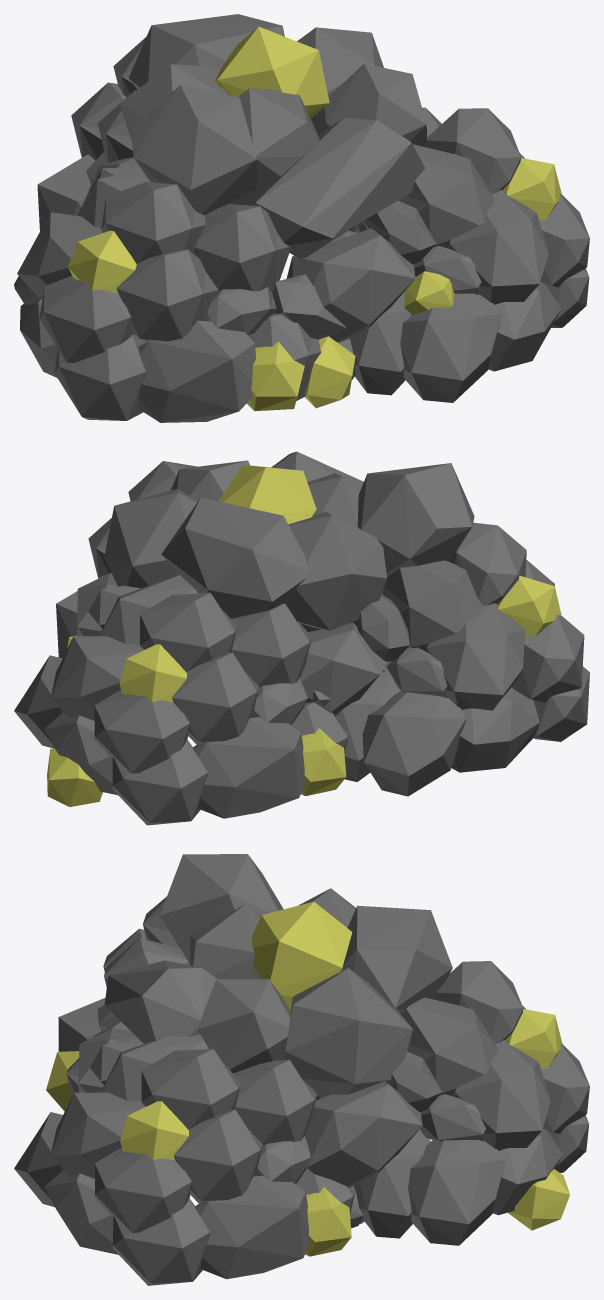
Rendered from GoldMine.fbx.
3 views of the same model, one above another, from view 1: azimuth 30°, elevation 25°; view 2: azimuth 150°, elevation 25°; view 3: azimuth 270°, elevation 25° (orthographic). The views are drawn at different scales.
Visible parts, largest first — view 1: Caverne.002, Caverne, Icosphere.010, Icosphere.006, Caverne.001, Icosphere.003, Icosphere.016, Icosphere.017, Icosphere.013, Icosphere.005, Icosphere.015, Icosphere.014 (+4 smaller); view 2: Caverne.001, Caverne.002, Icosphere.017, Icosphere.006, Icosphere.004, Icosphere.005, Icosphere.003, Caverne, Icosphere.009, Icosphere.014, Icosphere.008, Icosphere (+3 smaller); view 3: Caverne, Caverne.001, Icosphere.005, Icosphere.017, Icosphere.003, Icosphere.006, Icosphere.010, Icosphere.013, Caverne.002, Icosphere.016, Icosphere.002, Icosphere.007 (+4 smaller).
Part boxes in pixels (x1,y1,x2,y2): Caverne.002: (14,157,355,422); Caverne: (286,107,589,402); Icosphere.010: (255,118,424,258); Icosphere.006: (131,85,257,215); Caverne.001: (37,37,357,232); Icosphere.003: (215,26,329,118); Icosphere.016: (226,88,319,205); Icosphere.017: (128,14,284,89); Icosphere.013: (324,63,426,147); Icosphere.005: (297,27,383,136); Icosphere.015: (247,342,304,411); Icosphere.014: (68,230,136,293); Caverne.001: (14,573,348,825); Caverne.002: (300,522,589,796); Icosphere.017: (161,497,308,618); Icosphere.006: (357,463,474,576); Icosphere.004: (287,512,386,630); Icosphere.005: (104,489,197,588); Icosphere.003: (218,464,316,524); Caverne: (56,461,391,672); Icosphere.009: (119,644,186,702); Icosphere.014: (497,576,561,636); Icosphere.008: (301,728,346,796); Icosphere: (47,748,102,806); Caverne: (14,1028,364,1285); Caverne.001: (305,961,589,1245); Icosphere.005: (285,968,412,1098); Icosphere.017: (341,905,452,1012); Icosphere.003: (251,901,352,1010); Icosphere.006: (160,854,283,962); Icosphere.010: (104,960,217,1043); Icosphere.013: (197,979,290,1072); Caverne.002: (58,896,189,1094); Icosphere.016: (189,904,260,979); Icosphere.002: (120,1101,188,1160); Icosphere.007: (305,1187,351,1256).
Size of the model in its own units: 1061 by 574 by 1048.
